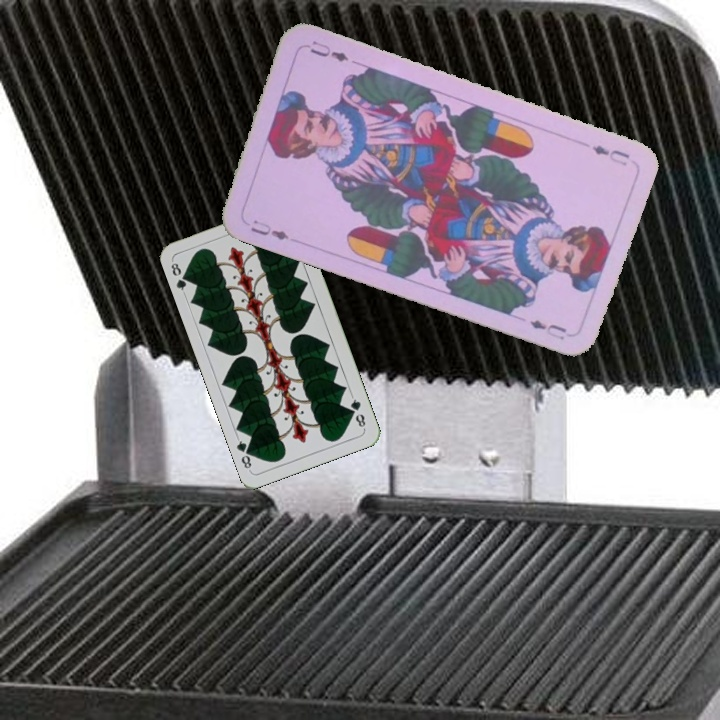EU: (587, 141, 633, 169), (246, 216, 292, 243)
G8: (167, 257, 192, 297), (346, 392, 368, 432)
